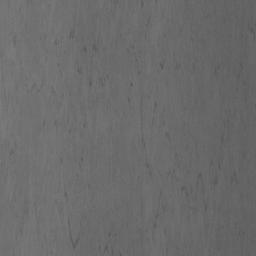Silk spot: (0, 0, 249, 256), (10, 149, 97, 256), (221, 62, 256, 144), (1, 126, 16, 179), (8, 0, 64, 12), (241, 24, 256, 40)
